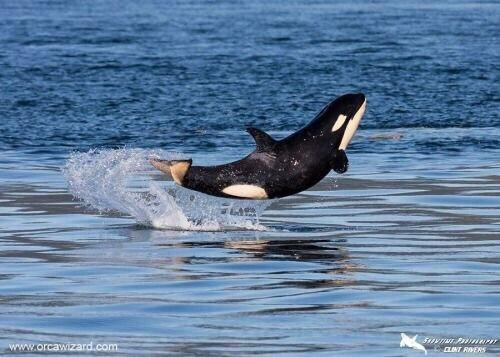fish: (153, 91, 370, 206)
